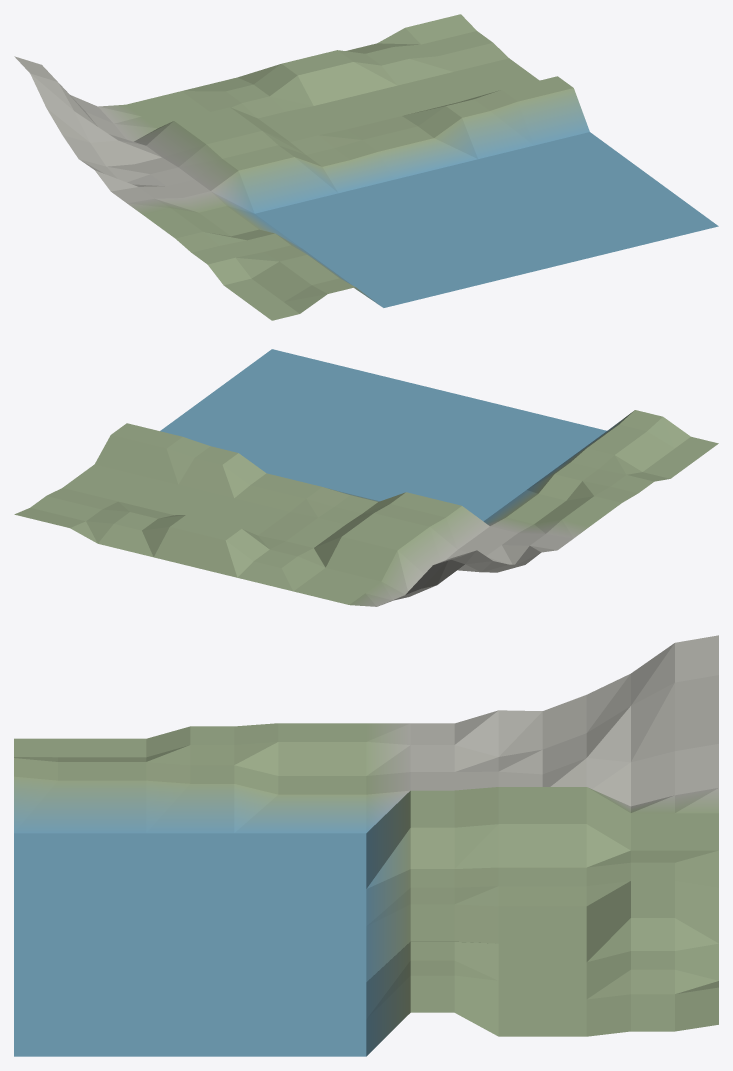
3 renders of one model, top to bottom at view 1: azimuth 30°, elevation 25°; view 2: azimuth 150°, elevation 25°; view 3: azimuth 270°, elevation 25°, orthographic. The views are drawn at different scales.
Bounding box in the file's own units: 32 × 6.18 × 32.
